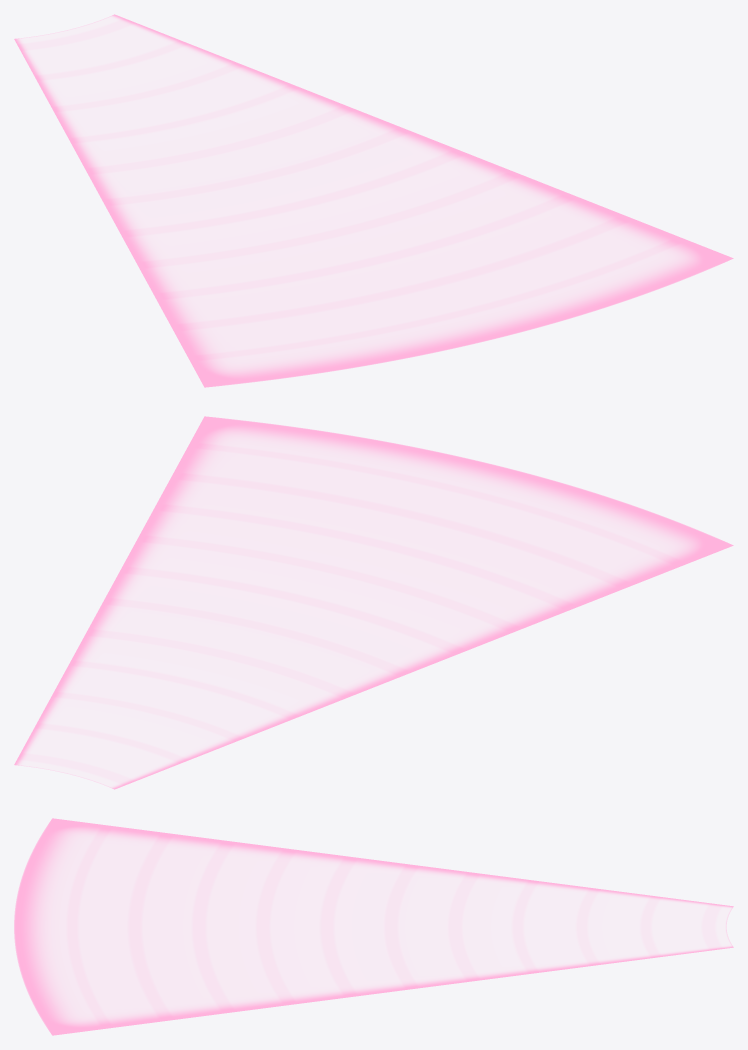
The model's file is wedge34_hot.glb.
3 views of the same model, one above another, from view 1: azimuth 30°, elevation 25°; view 2: azimuth 150°, elevation 25°; view 3: azimuth 270°, elevation 25° (orthographic). The views are drawn at different scales.
Visible parts, largest first — view 1: wedge; view 2: wedge; view 3: wedge.
Part boxes in pixels (box(x1,y1,x2,y2)): wedge: box(14, 14, 733, 387); wedge: box(14, 416, 733, 789); wedge: box(14, 818, 733, 1035).
Bounding box in the file's own units: 0.5847 × 0 × 0.8183.
1 material, 1 textured.
